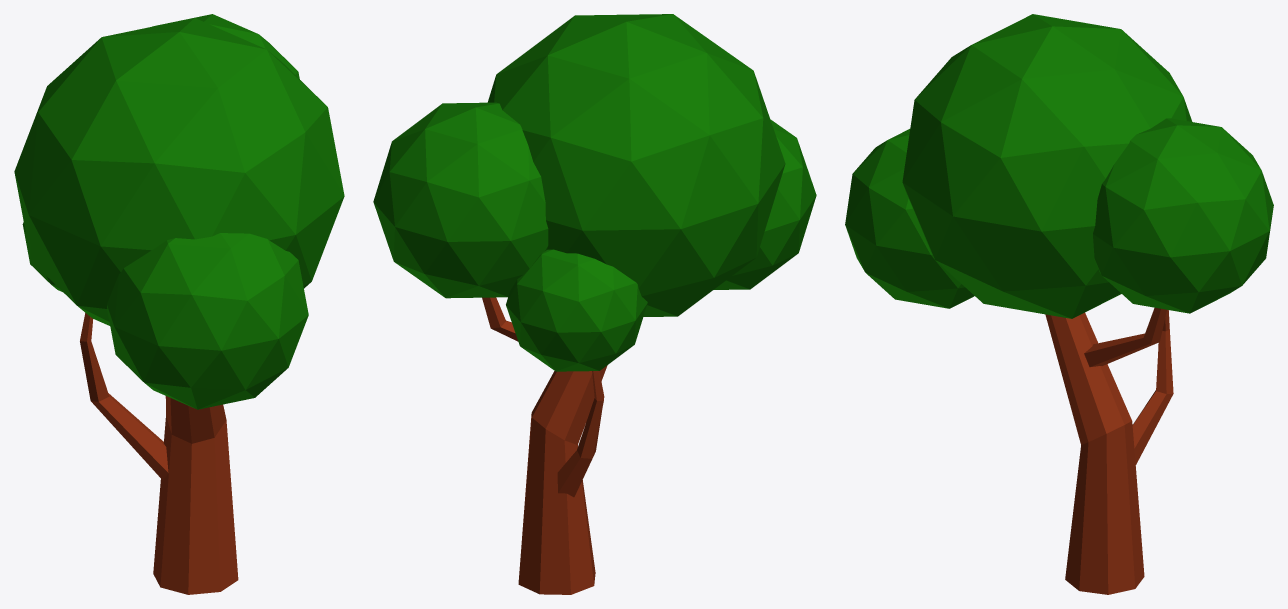
The model's file is Tree002.fbx.
3 renders of one model, left to right at view 1: azimuth 30°, elevation 25°; view 2: azimuth 150°, elevation 25°; view 3: azimuth 270°, elevation 25°, orthographic. The views are drawn at different scales.
Parts seen in each view (by area): view 1: Tree 002; view 2: Tree 002; view 3: Tree 002.
Boxes of the visible parts, x1,y1,x2,y2 form: Tree 002: (14, 14, 344, 594); Tree 002: (373, 14, 816, 594); Tree 002: (845, 14, 1273, 594).
Size of the model in its own units: 439 by 736 by 538.
